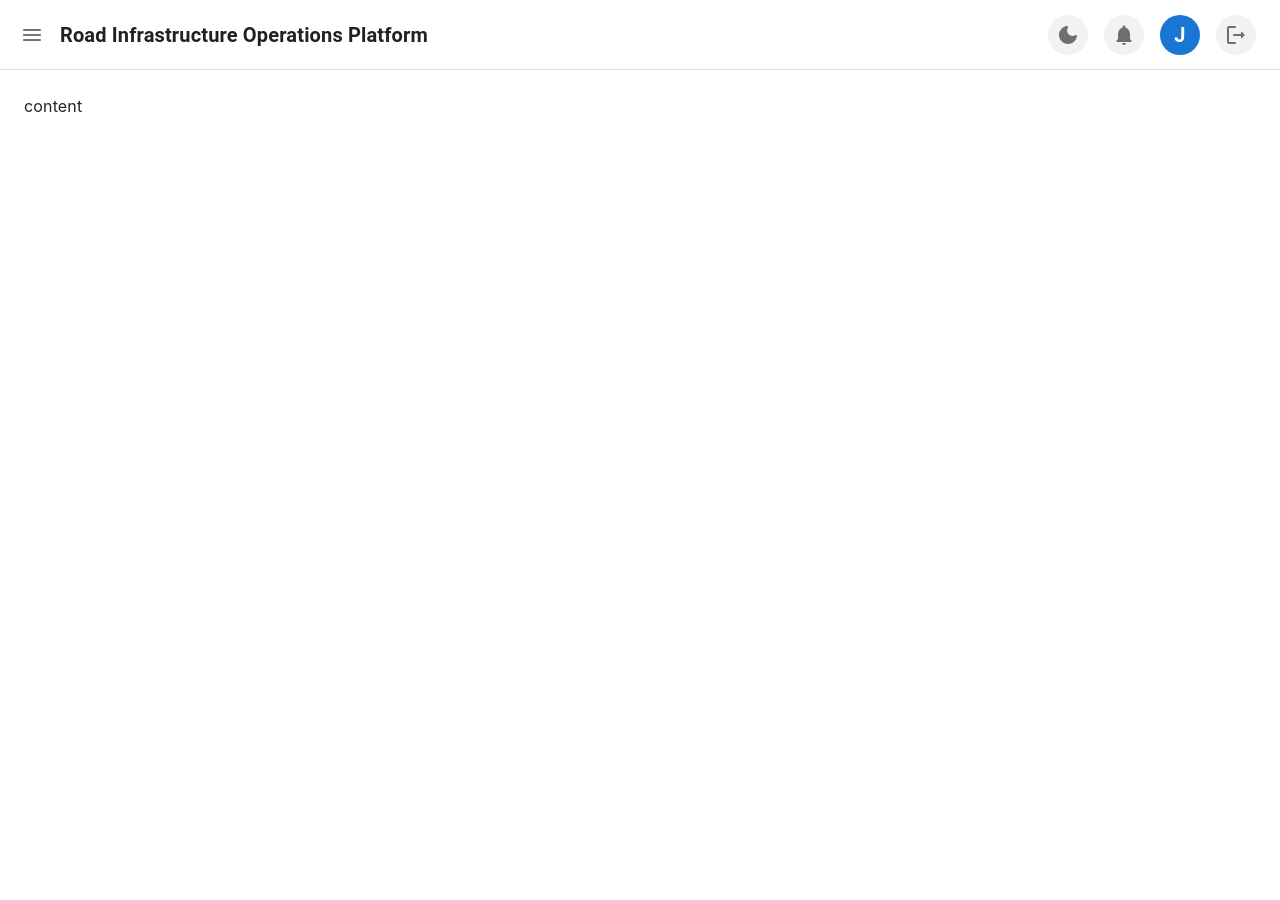
AdminShell › hides the sidebar behind a hamburger on mobile, opened on click
expect the text "Operations Center" is not shown: met
Click the button named "open menu".
click(32, 34)  # box [12,14,52,54]
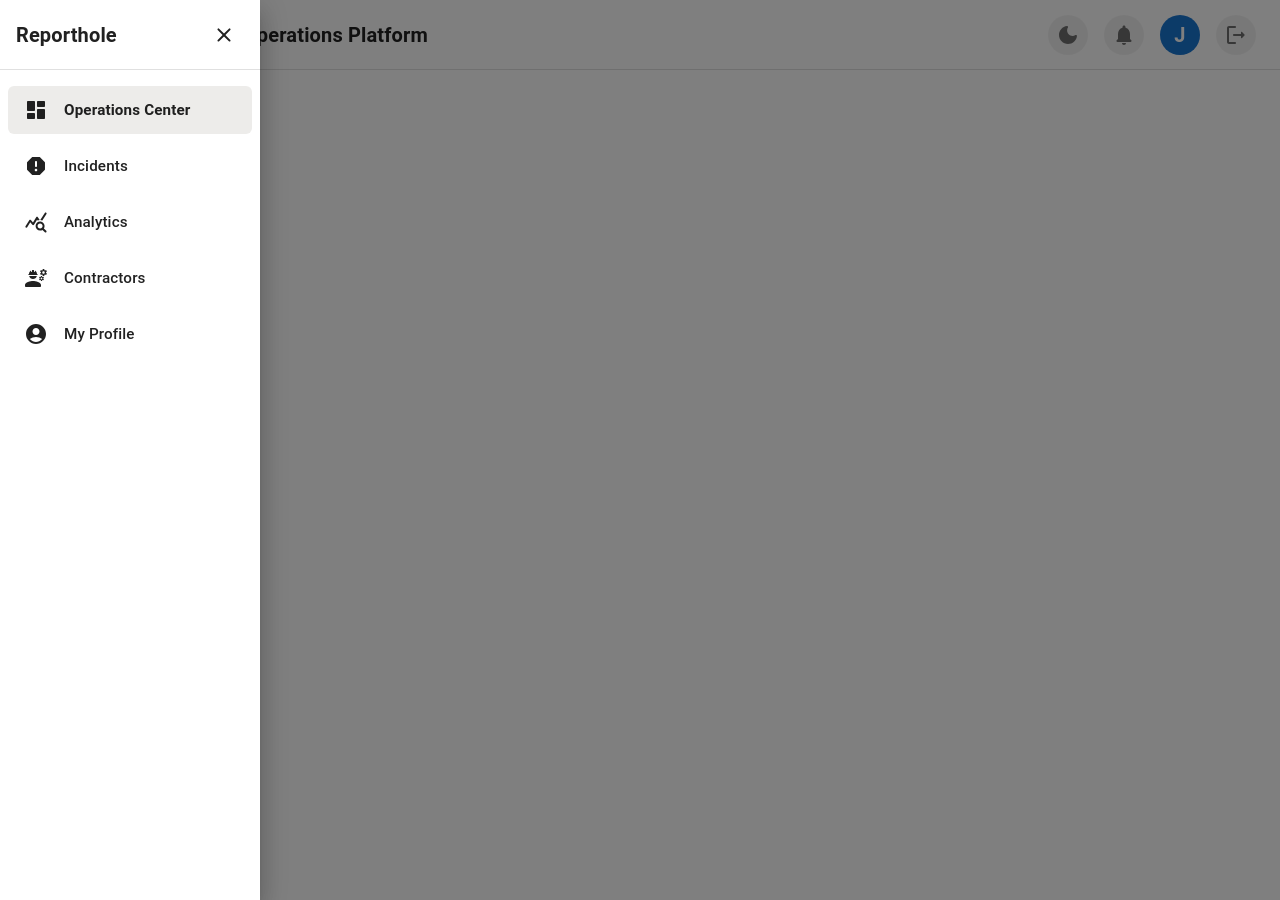
expect the text "Operations Center" is shown: met, box [64,99,190,121]
